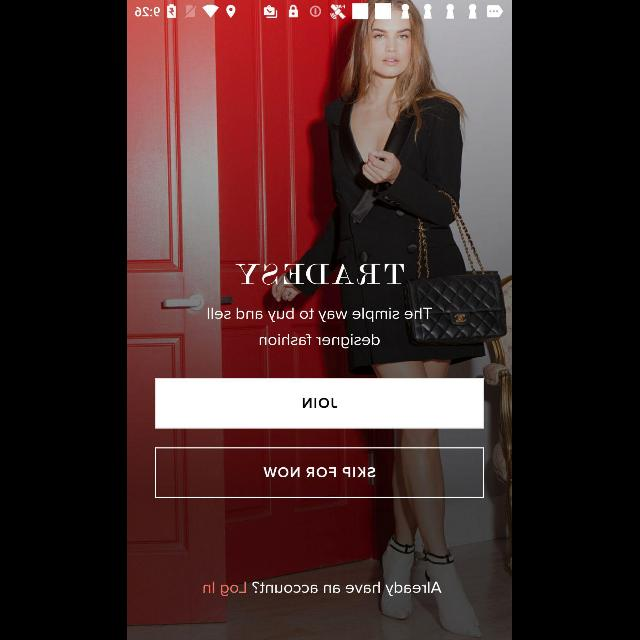backgroundimage: (128, 20, 512, 640)
text: (208, 307, 432, 349), (203, 581, 442, 597), (236, 263, 404, 285)
textbutton: (156, 378, 484, 429), (156, 448, 484, 498)
uppertaskbar: (128, 1, 512, 20)
